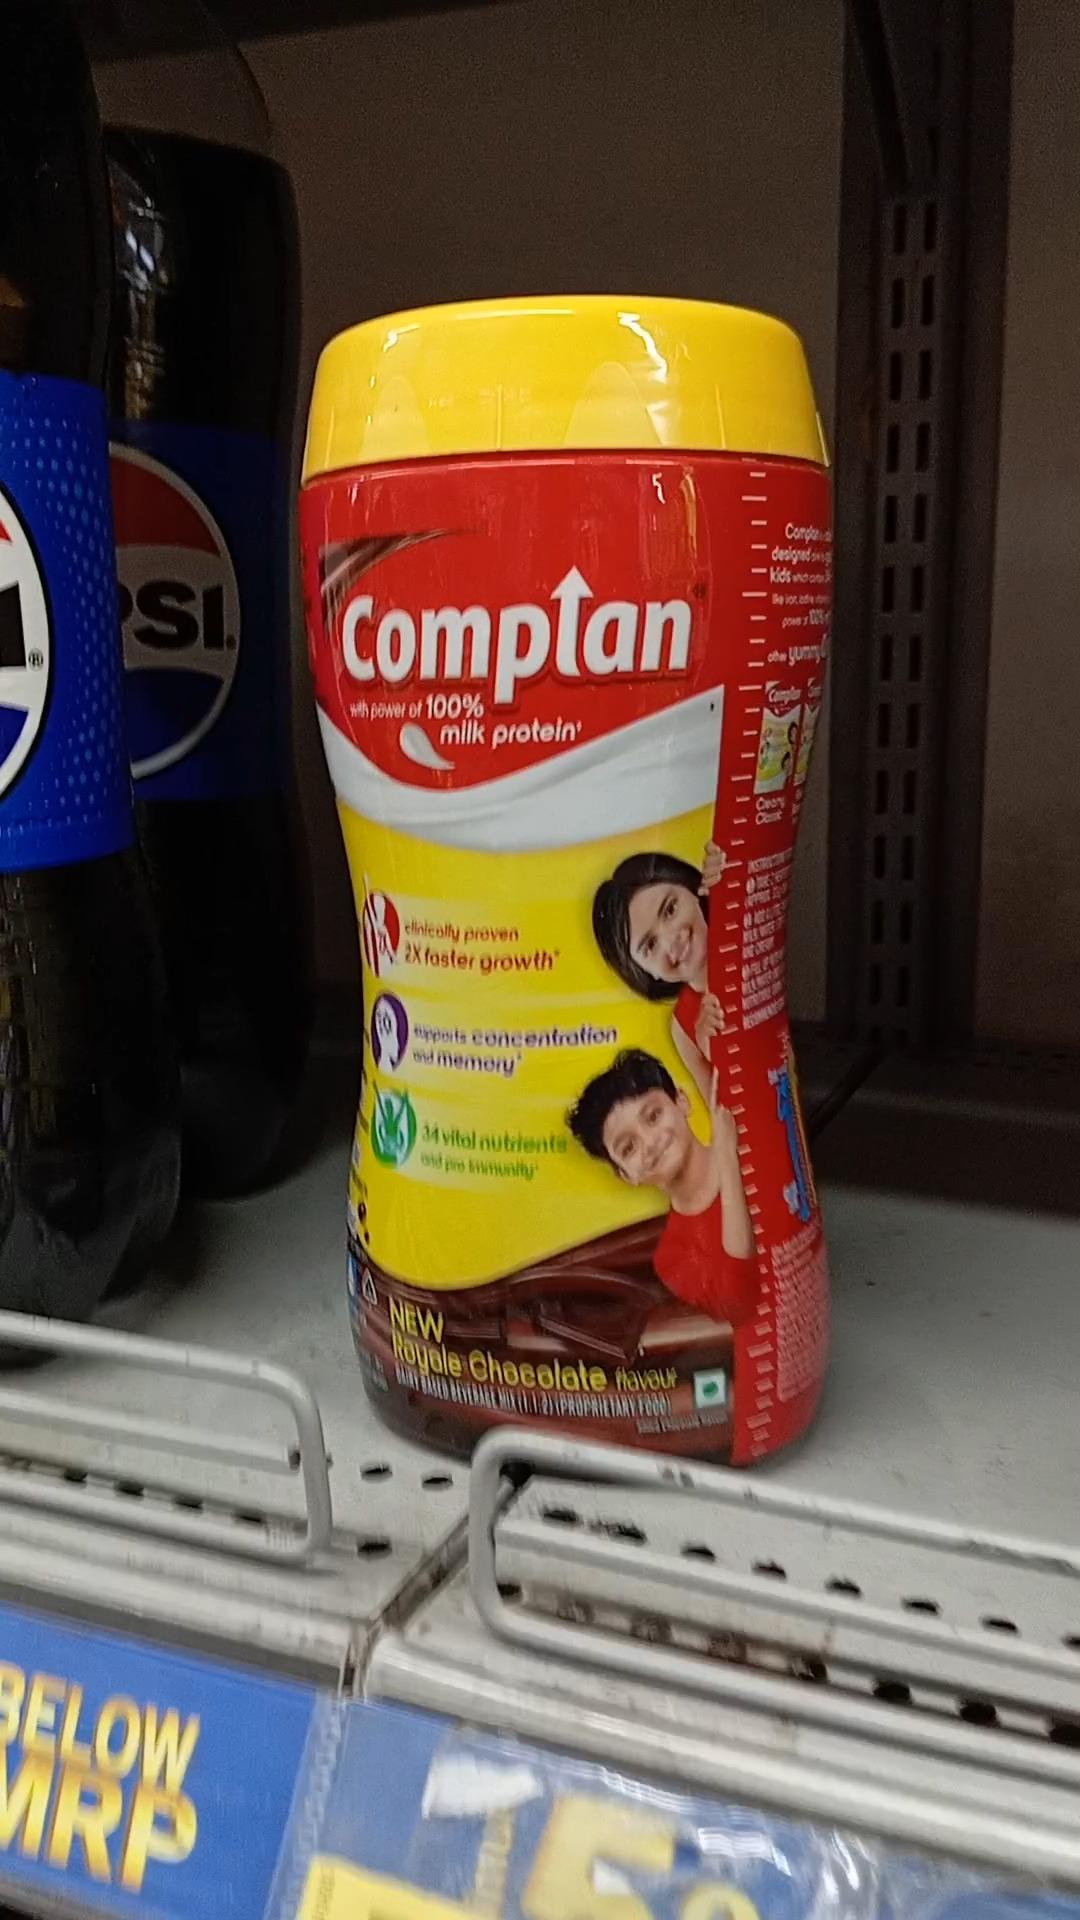COMPLAN_CHOCOLATE_500_GMS_JAR: (305, 301, 825, 1470)
